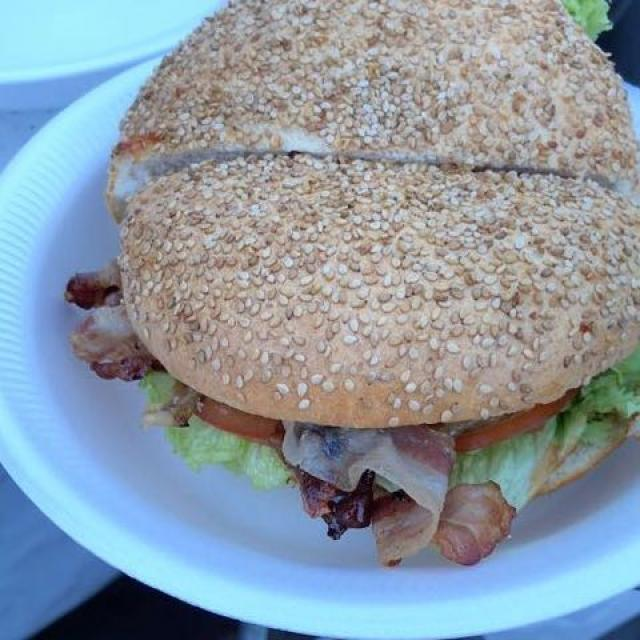hamburger: (82, 10, 627, 559)
